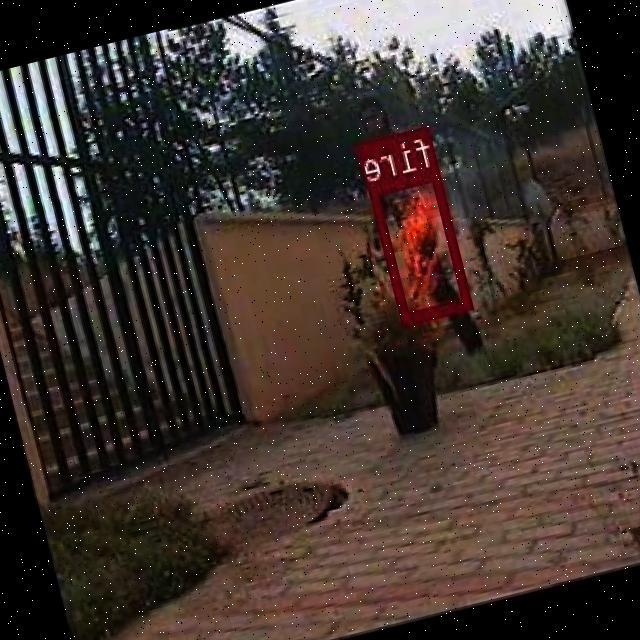fire: (370, 165, 473, 323)
